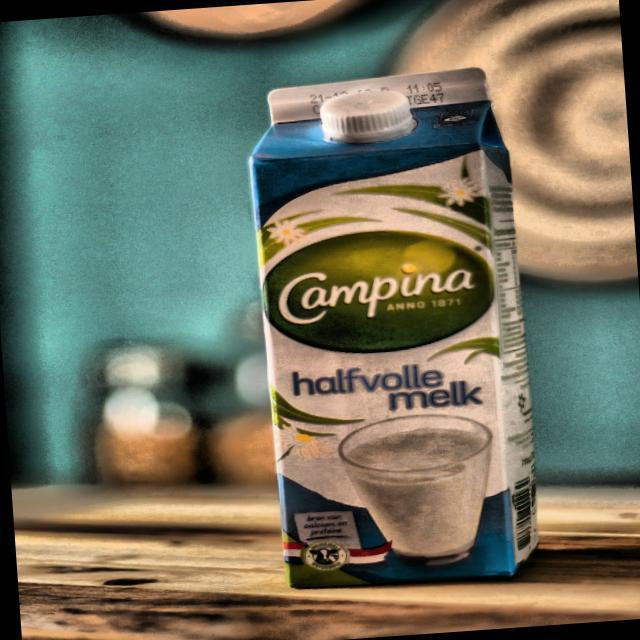cardboard: (242, 64, 546, 594)
